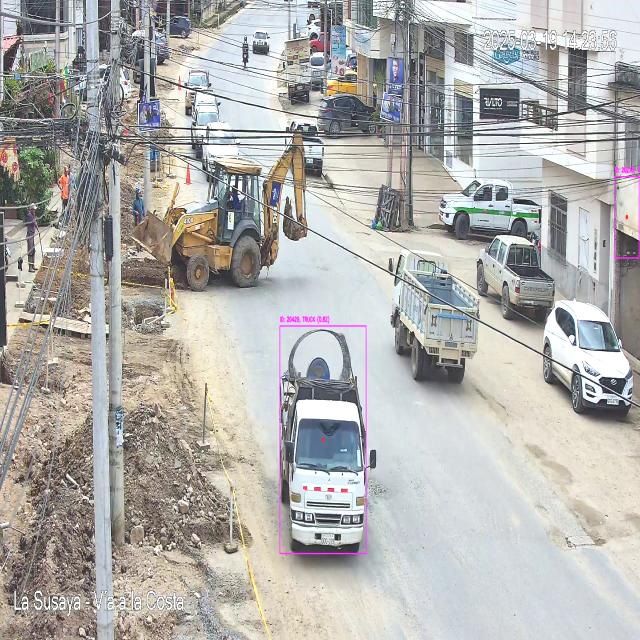SUV: (540, 297, 634, 414)
TRUCK: (134, 146, 308, 292), (281, 330, 368, 557), (390, 249, 480, 385)
